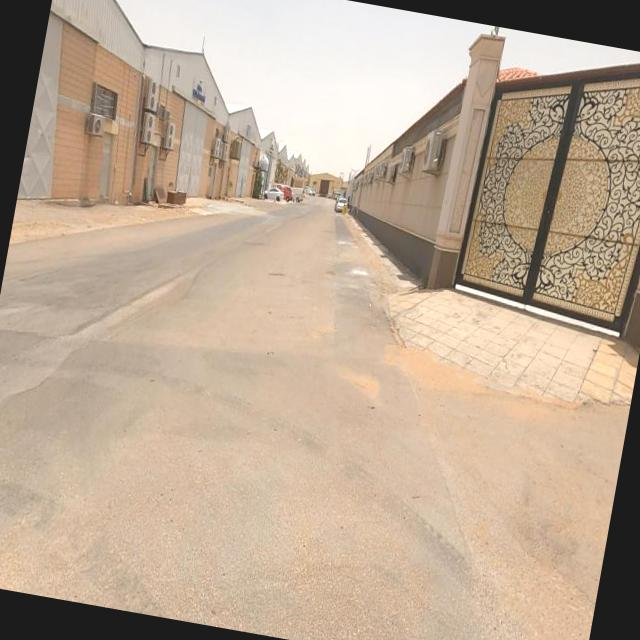debris: (120, 148, 224, 248)
